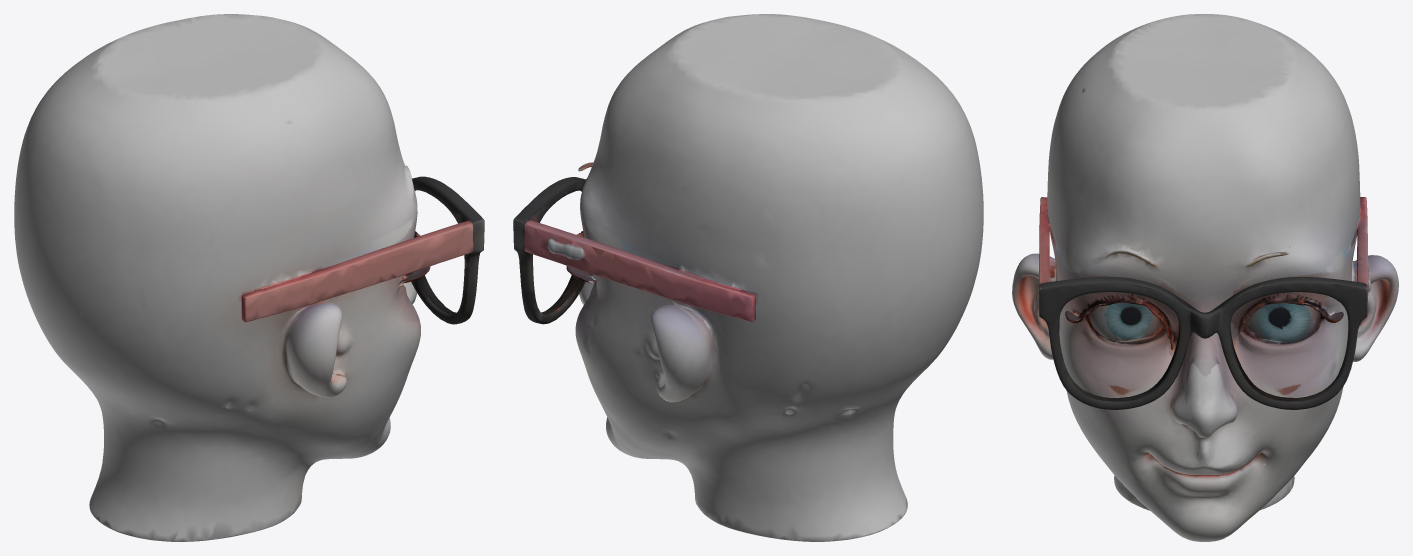
The model's file is eye-treatment.glb.
3 views of the same model, side by side, from view 1: azimuth 30°, elevation 25°; view 2: azimuth 150°, elevation 25°; view 3: azimuth 270°, elevation 25° (orthographic). The views are drawn at different scales.
Visible parts, largest first — view 1: EyeTreatment; view 2: EyeTreatment; view 3: EyeTreatment.
Part boxes in pixels (<box>): EyeTreatment: <box>14,14,484,541</box>; EyeTreatment: <box>513,14,983,541</box>; EyeTreatment: <box>1012,14,1398,541</box>.
Size of the model in its own units: 0.2199 by 0.24 by 0.2.
1 material, 1 textured.
